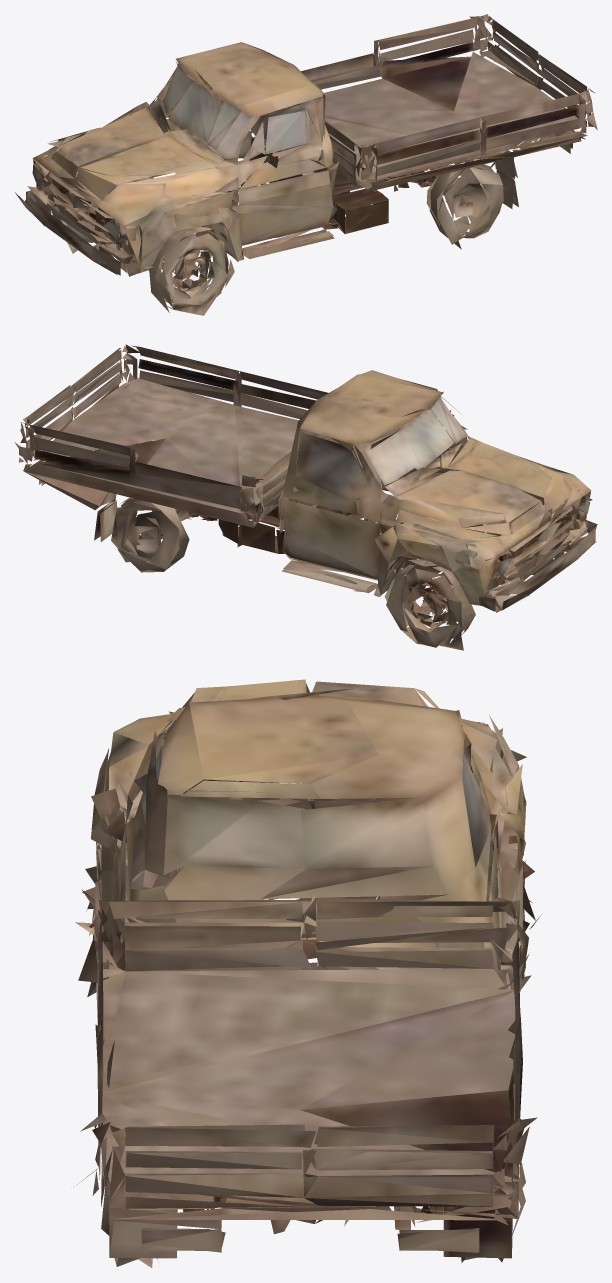
File: pickup_truck.glb
The picture shows the model from 3 angles, top to bottom: view 1: azimuth 30°, elevation 25°; view 2: azimuth 150°, elevation 25°; view 3: azimuth 270°, elevation 25°; orthographic projection. The views are drawn at different scales.
Visible parts, largest first — view 1: Mesh_0; view 2: Mesh_0; view 3: Mesh_0.
Boxes of the visible parts, left/top/right/bottom form: Mesh_0: left=15, top=14, right=597, bottom=315; Mesh_0: left=14, top=344, right=597, bottom=650; Mesh_0: left=73, top=679, right=541, bottom=1267.
Size of the model in its own units: 1.93 by 0.7149 by 0.8196.
1 material, 1 textured.
